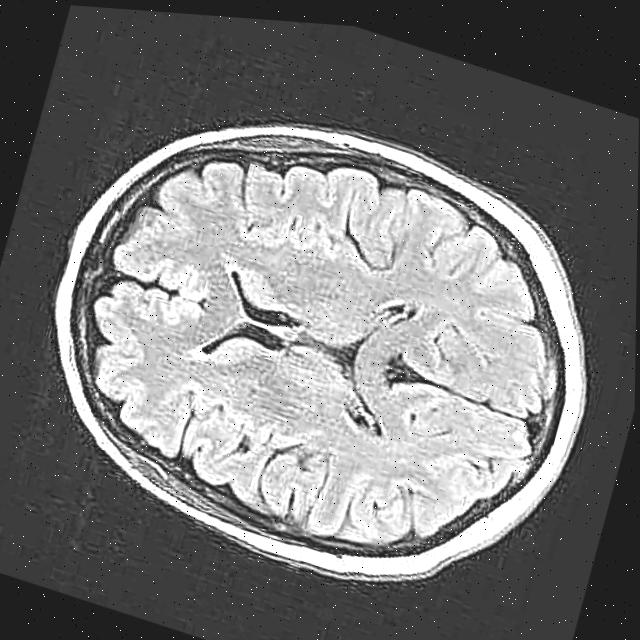NoTumor: (1, 44, 639, 640)
